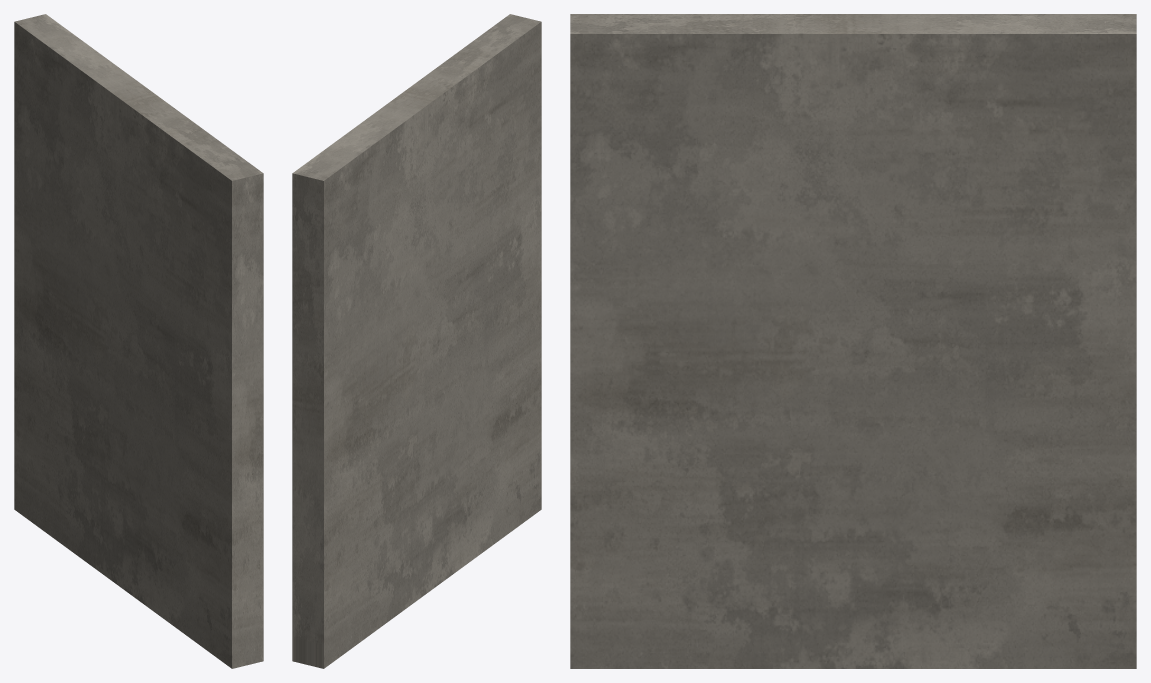
The model's file is Modular_Wall.fbx.
3 renders of one model, left to right at view 1: azimuth 30°, elevation 25°; view 2: azimuth 150°, elevation 25°; view 3: azimuth 270°, elevation 25°, orthographic. The views are drawn at different scales.
Parts seen in each view (by area): view 1: Modular_wall; view 2: Modular_wall; view 3: Modular_wall.
Part boxes in pixels (bbox=[...]): Modular_wall: bbox=[14, 14, 263, 668]; Modular_wall: bbox=[292, 14, 541, 668]; Modular_wall: bbox=[570, 14, 1136, 668].
Bounding box in the file's own units: 25 × 371 × 300.
